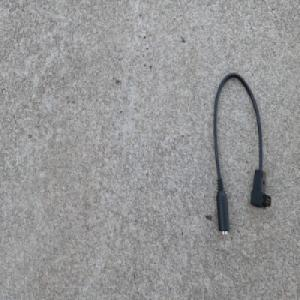Wire: (212, 71, 271, 237)
